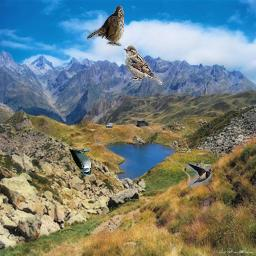Sparrow: (124, 45, 163, 85), (87, 6, 124, 46)
Swallow: (69, 148, 92, 175), (187, 163, 211, 187)
